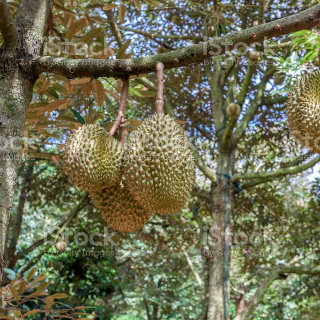sau_rieng: (121, 110, 200, 221)
